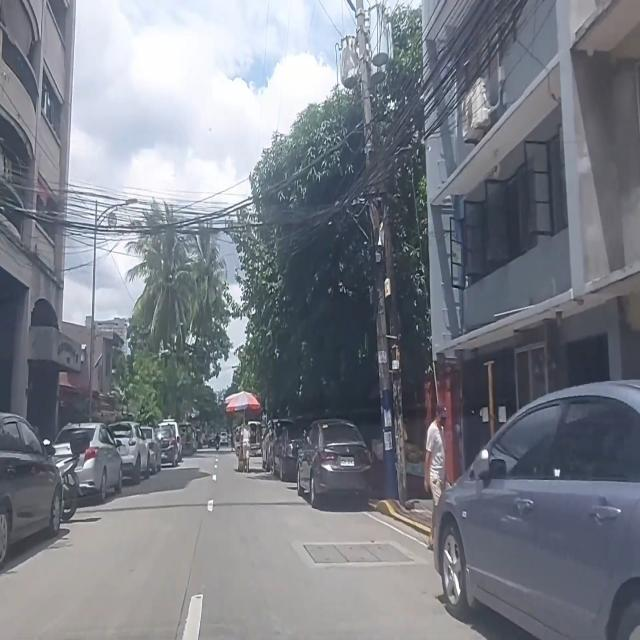car: (435, 380, 640, 640), (0, 413, 63, 567), (296, 418, 372, 508), (54, 423, 122, 506), (109, 421, 150, 484), (272, 425, 305, 481), (262, 419, 294, 472), (140, 426, 162, 474), (158, 418, 182, 462), (154, 425, 178, 468)
jeepney: (178, 422, 196, 456), (248, 421, 262, 456)
motorcycle: (54, 428, 94, 520), (216, 433, 220, 453)
